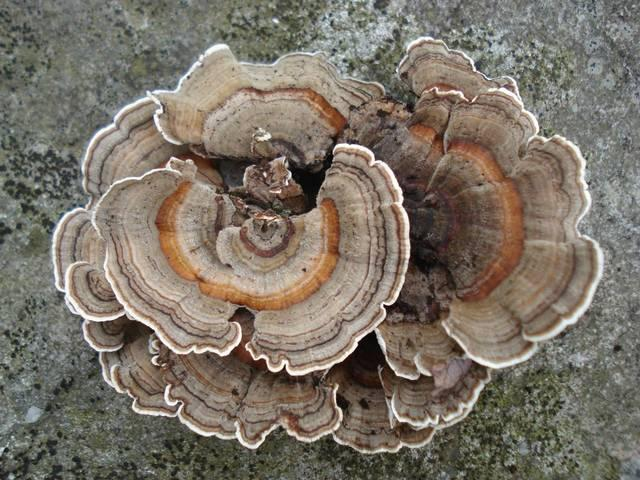poisonous_mushroom: (50, 36, 604, 454)
